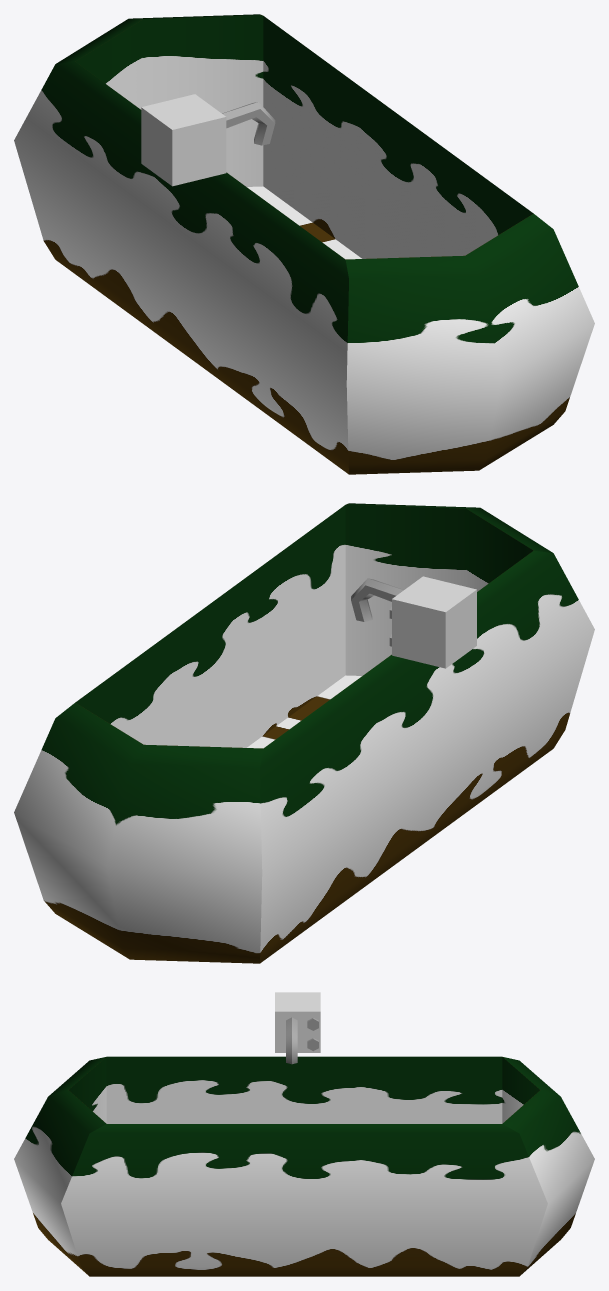
The model's file is bath.fbx.
The picture shows the model from 3 angles, top to bottom: view 1: azimuth 30°, elevation 25°; view 2: azimuth 150°, elevation 25°; view 3: azimuth 270°, elevation 25°; orthographic projection. The views are drawn at different scales.
Visible parts, largest first — view 1: pCube3; view 2: pCube3; view 3: pCube3.
Part boxes in pixels (x1=…): pCube3: x1=14, y1=14, x2=594, y2=474; pCube3: x1=14, y1=503, x2=594, y2=963; pCube3: x1=14, y1=992, x2=594, y2=1276.
Bounding box in the file's own units: 5.13 × 4.68 × 12.76.
Materials: 3 (1 with a texture image).
